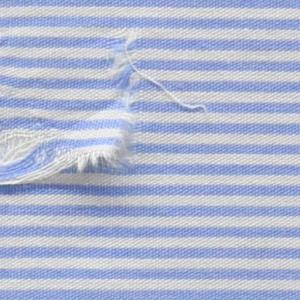Damage: (1, 28, 218, 191)
